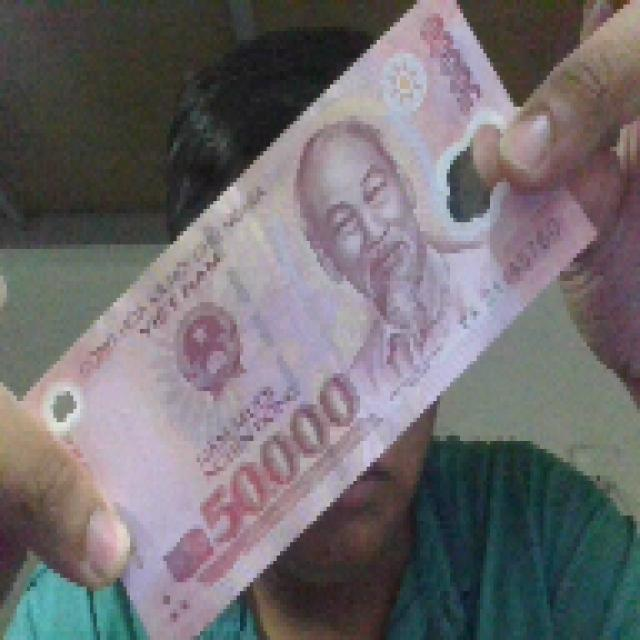50 000 VND: (10, 0, 600, 636)
